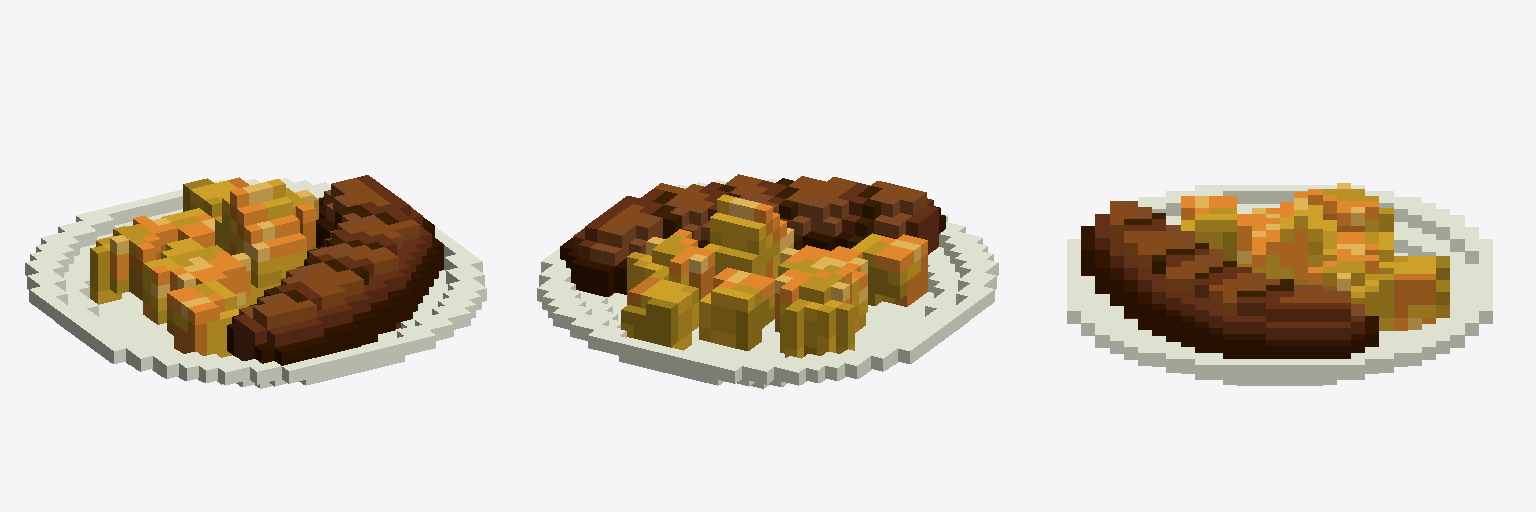
3 renders of one model, left to right at view 1: azimuth 30°, elevation 25°; view 2: azimuth 150°, elevation 25°; view 3: azimuth 270°, elevation 25°, orthographic.
Visible parts, largest first — view 1: object 1; view 2: object 1; view 3: object 1.
Part boxes in pixels (bbox=[...]): object 1: bbox=[25, 175, 486, 388]; object 1: bbox=[537, 174, 998, 388]; object 1: bbox=[1067, 183, 1492, 385].
Bounding box in the file's own units: 3 × 0.9 × 3.
Materials: 1 (1 with a texture image).